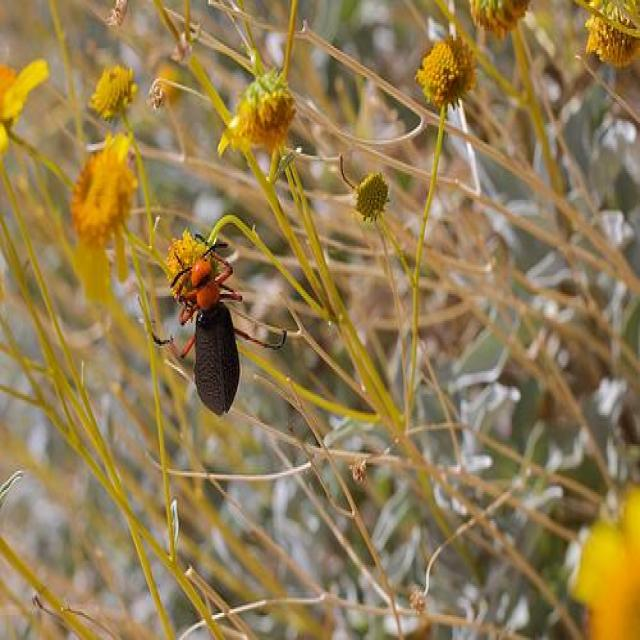BlisterBeetle-Adult-: (160, 221, 270, 424)
